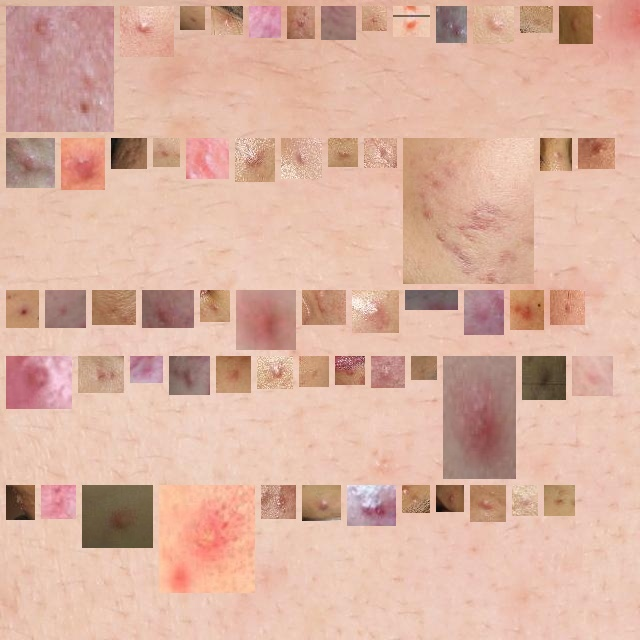papule: (411, 146, 526, 276), (14, 14, 106, 124), (167, 493, 247, 585), (451, 364, 508, 471), (90, 493, 145, 540), (244, 298, 288, 342), (14, 364, 64, 401), (128, 14, 166, 49), (14, 146, 47, 180), (69, 146, 97, 182), (360, 298, 391, 325), (355, 493, 388, 518), (150, 298, 186, 320), (530, 364, 558, 392), (472, 298, 496, 327), (194, 146, 221, 171), (243, 146, 267, 174), (86, 364, 116, 385), (289, 146, 314, 171), (580, 364, 605, 388), (177, 364, 202, 387), (481, 14, 506, 36), (53, 298, 78, 320), (100, 298, 128, 317), (310, 298, 338, 317), (310, 493, 333, 513), (518, 298, 536, 322), (478, 493, 498, 514), (413, 298, 450, 309), (224, 364, 243, 385), (567, 14, 585, 36), (14, 298, 31, 320), (558, 298, 577, 317), (329, 14, 348, 32), (49, 493, 68, 511), (269, 493, 288, 511), (265, 364, 285, 381), (401, 14, 422, 29), (444, 14, 459, 35), (586, 146, 607, 161), (119, 146, 139, 161), (379, 364, 397, 380), (548, 146, 564, 163), (257, 14, 273, 30), (14, 493, 27, 512), (372, 146, 389, 160), (552, 493, 567, 508), (208, 298, 222, 314), (307, 364, 321, 379), (219, 14, 235, 27), (295, 14, 307, 31), (528, 14, 545, 25), (138, 364, 155, 375), (336, 146, 350, 159), (343, 364, 357, 377), (520, 493, 530, 508), (410, 493, 422, 505), (161, 146, 172, 159), (444, 493, 456, 504), (370, 14, 379, 23), (419, 364, 429, 372), (188, 14, 197, 22)
